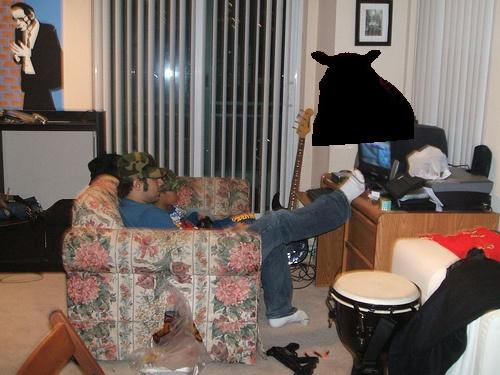tampered: (312, 51, 414, 146)
